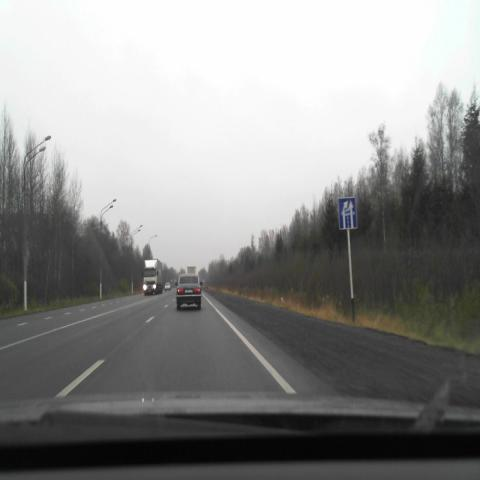5_15_5: (338, 198, 358, 229)
